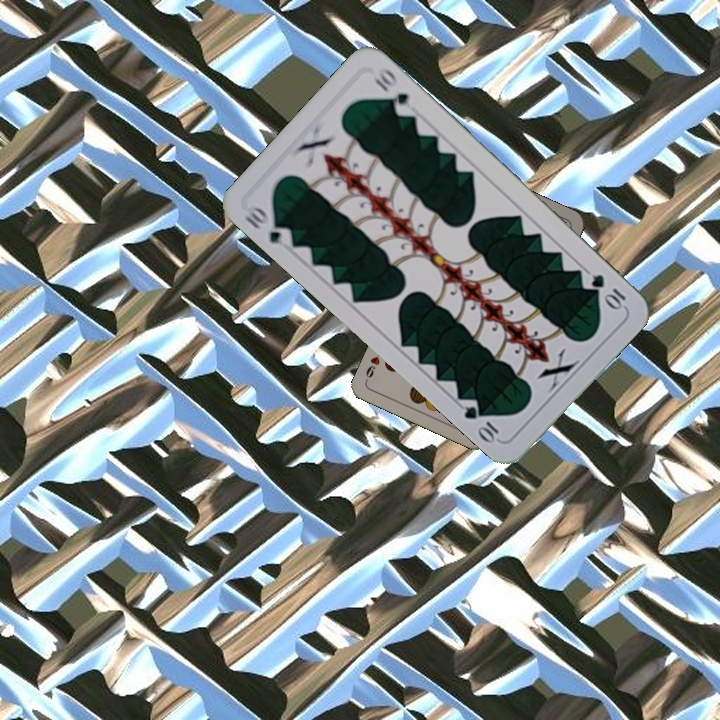G10: (240, 201, 296, 251), (587, 270, 629, 312)
